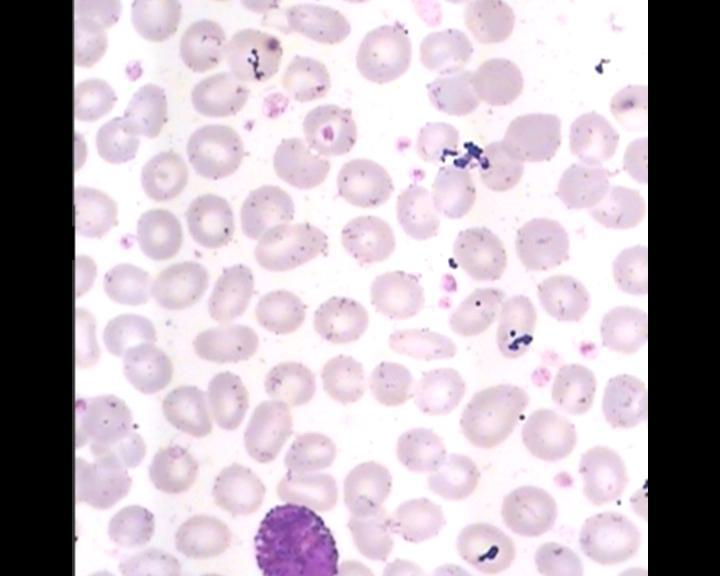baso: (249, 499, 347, 576)
